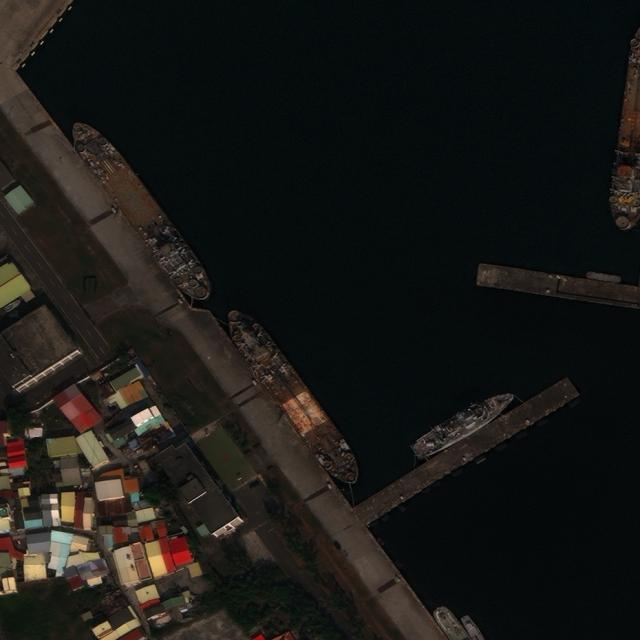Oil Tanker: (218, 301, 367, 493), (608, 28, 640, 235)
Other Ship: (63, 111, 217, 309)
Other Warship: (408, 383, 518, 465), (434, 606, 471, 640), (461, 614, 486, 640)
